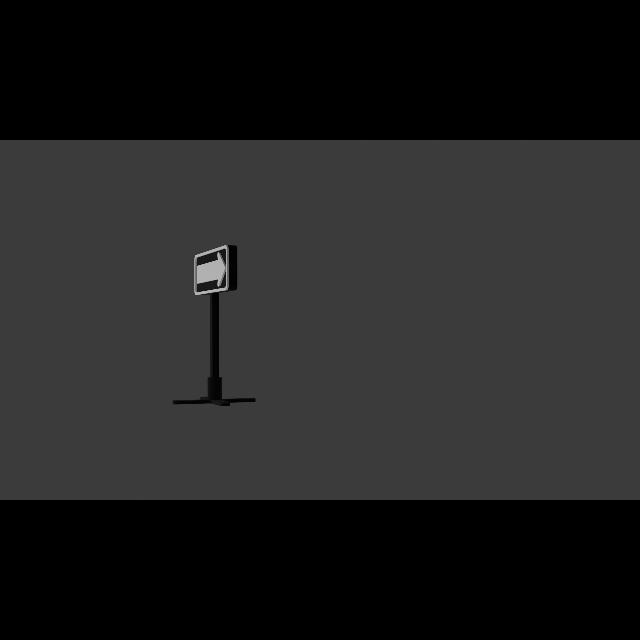sign_oneway_right: (195, 244, 240, 296)
